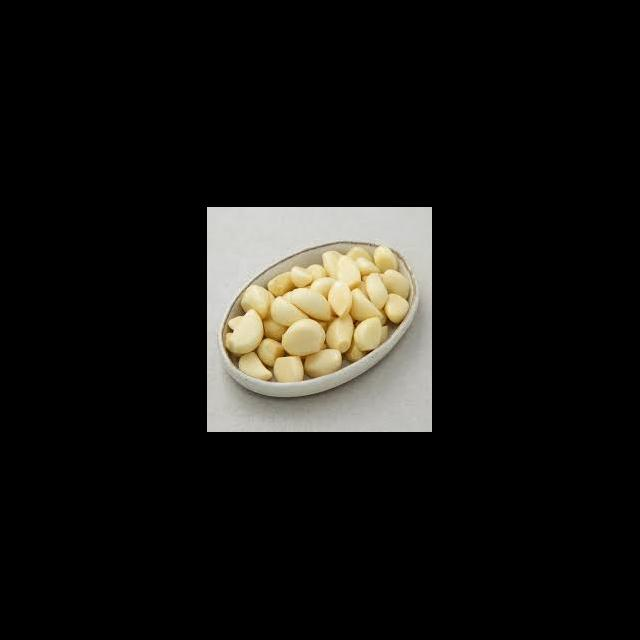garlic: (302, 268, 388, 352), (244, 286, 330, 350)
